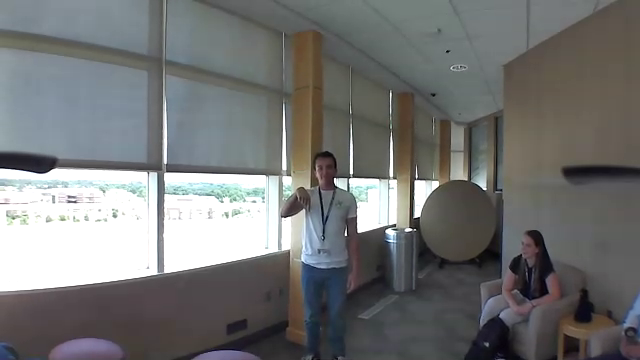down: (291, 183, 313, 215)
